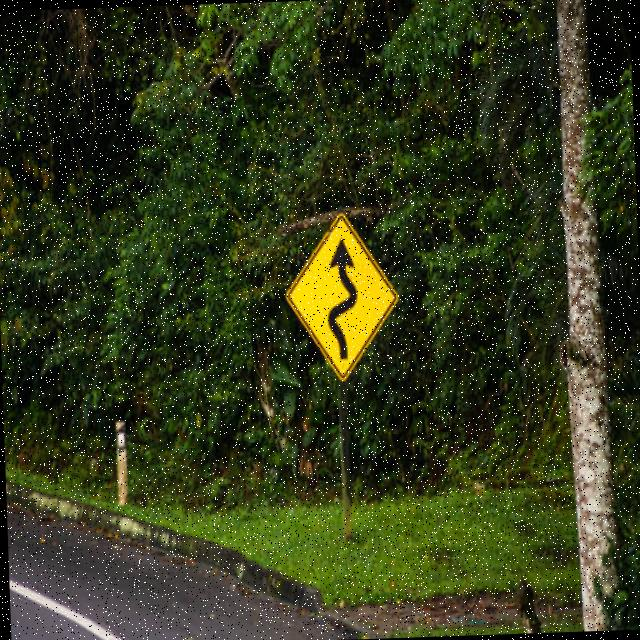left_sharp_curve: (277, 207, 404, 392)
